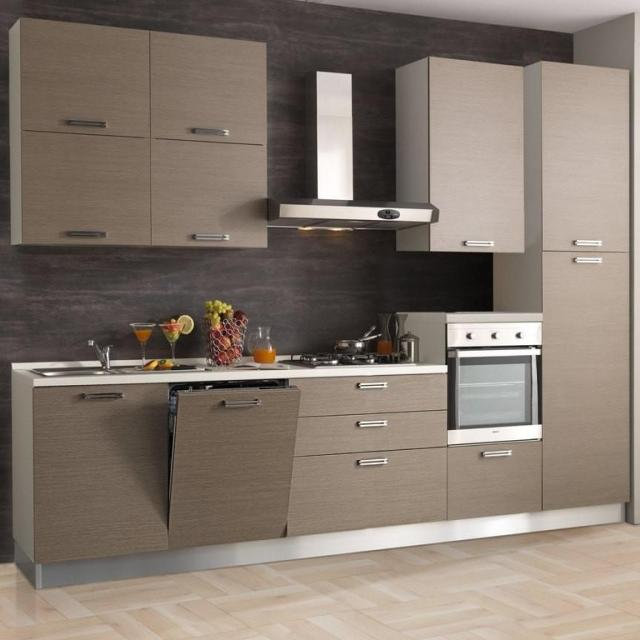dishwasher: (165, 372, 306, 556)
